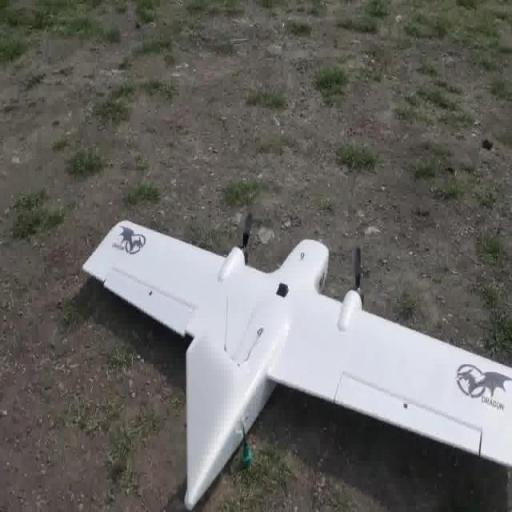uav: (83, 204, 512, 512)
